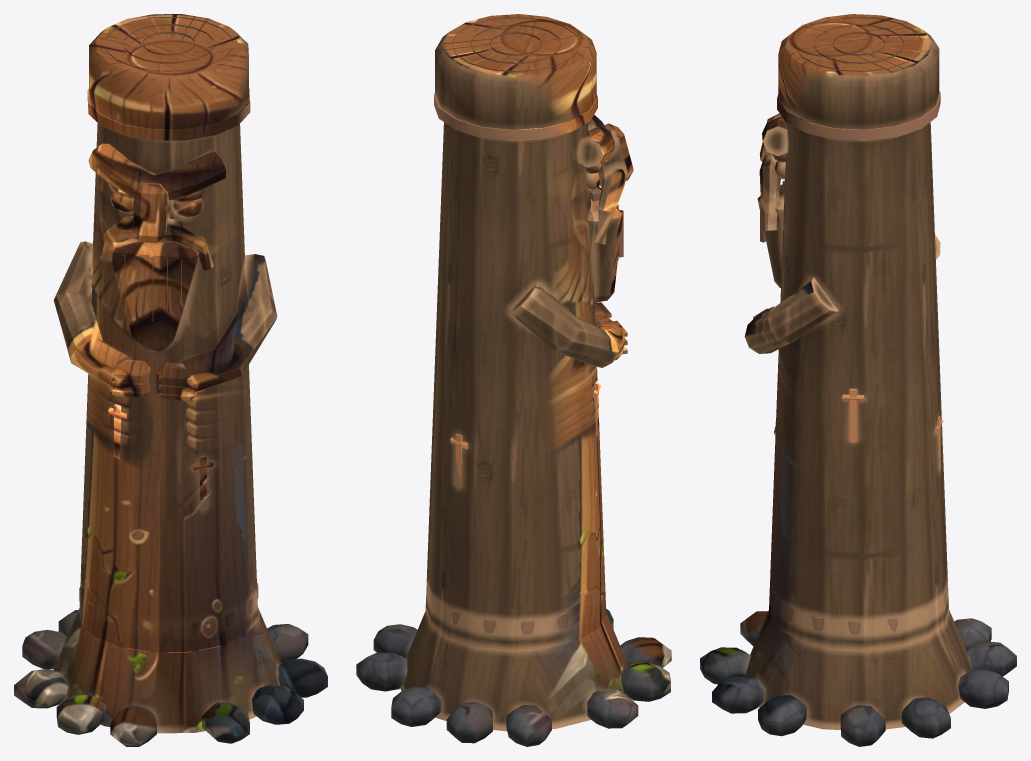
File: idol.glb
3 renders of one model, left to right at view 1: azimuth 30°, elevation 25°; view 2: azimuth 150°, elevation 25°; view 3: azimuth 270°, elevation 25°, orthographic.
Parts seen in each view (by area): view 1: idol; view 2: idol; view 3: idol.
Part boxes in pixels (left/top/right/bottom): idol: left=14, top=14, right=327, bottom=746; idol: left=356, top=14, right=671, bottom=746; idol: left=700, top=14, right=1016, bottom=746.
Bounding box in the file's own units: 1.32 × 2.99 × 1.33.
1 material, 1 textured.
